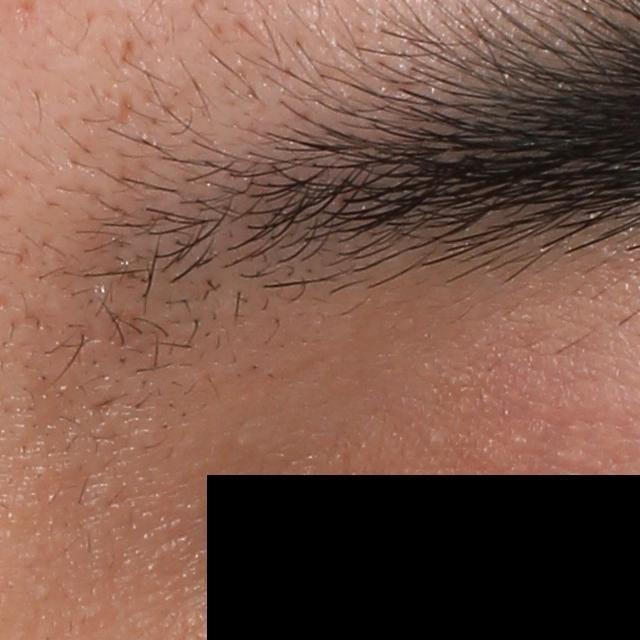atrophic_scar: (112, 91, 132, 130)
